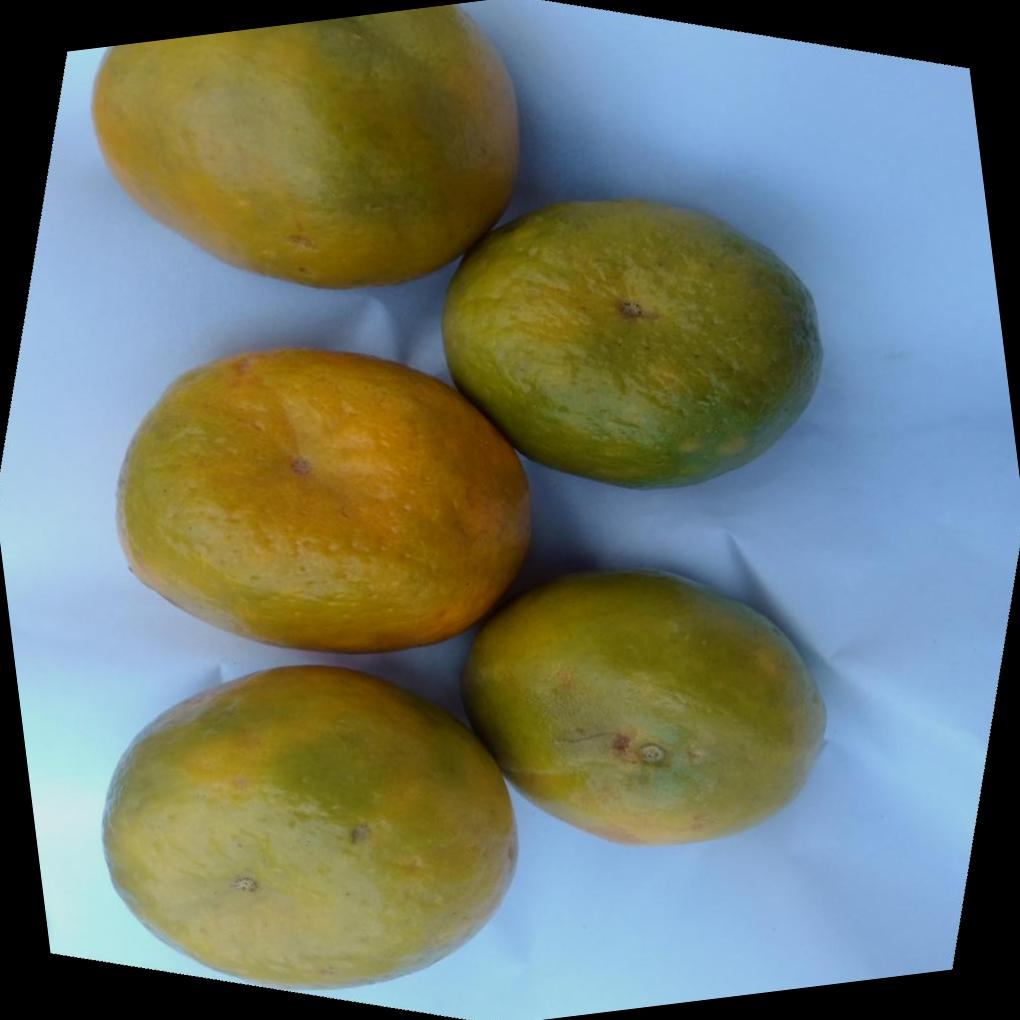FreshGuava: (92, 2, 830, 992)
